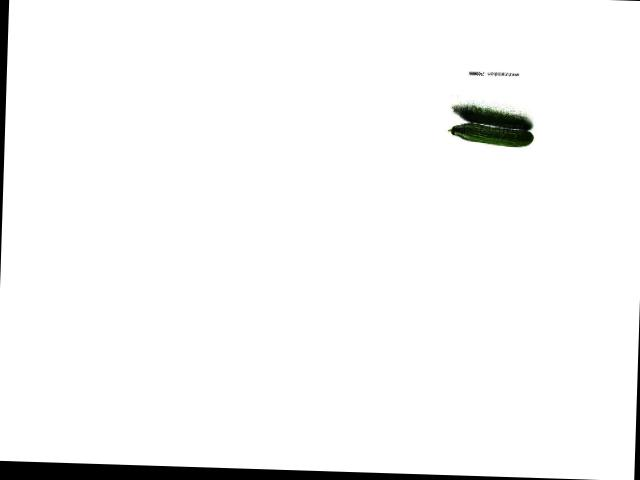cucumber: (447, 121, 533, 147)
